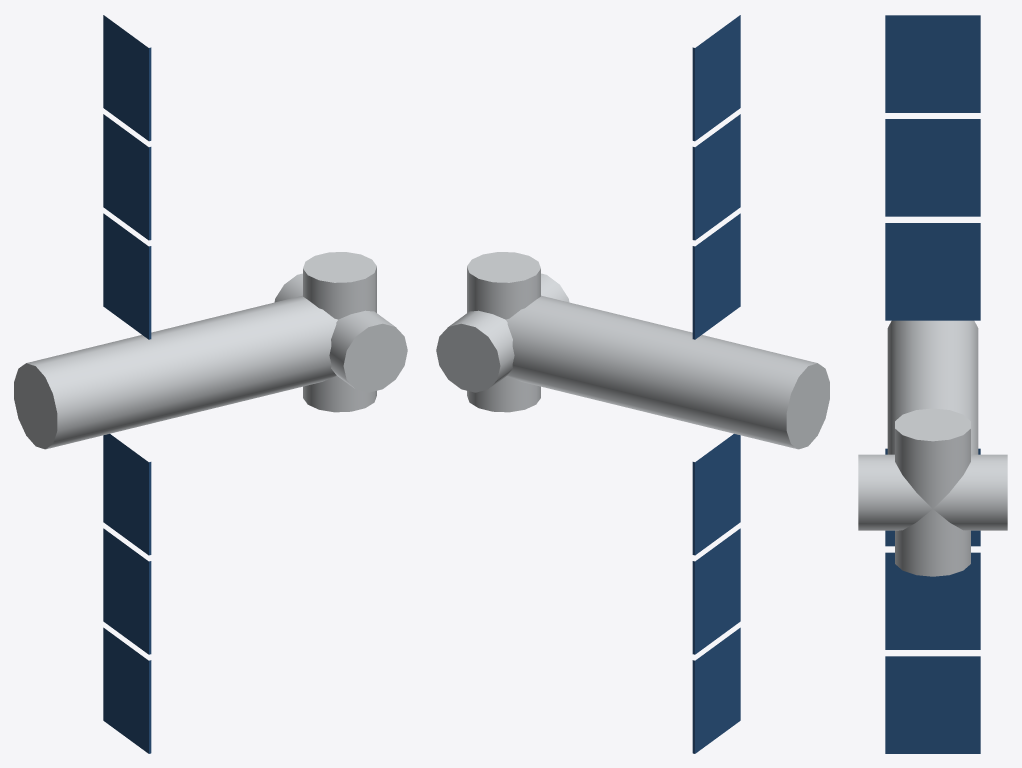
3 renders of one model, left to right at view 1: azimuth 30°, elevation 25°; view 2: azimuth 150°, elevation 25°; view 3: azimuth 270°, elevation 25°, orthographic. The views are drawn at different scales.
Size of the model in its own units: 13.6 by 27.27 by 5.
